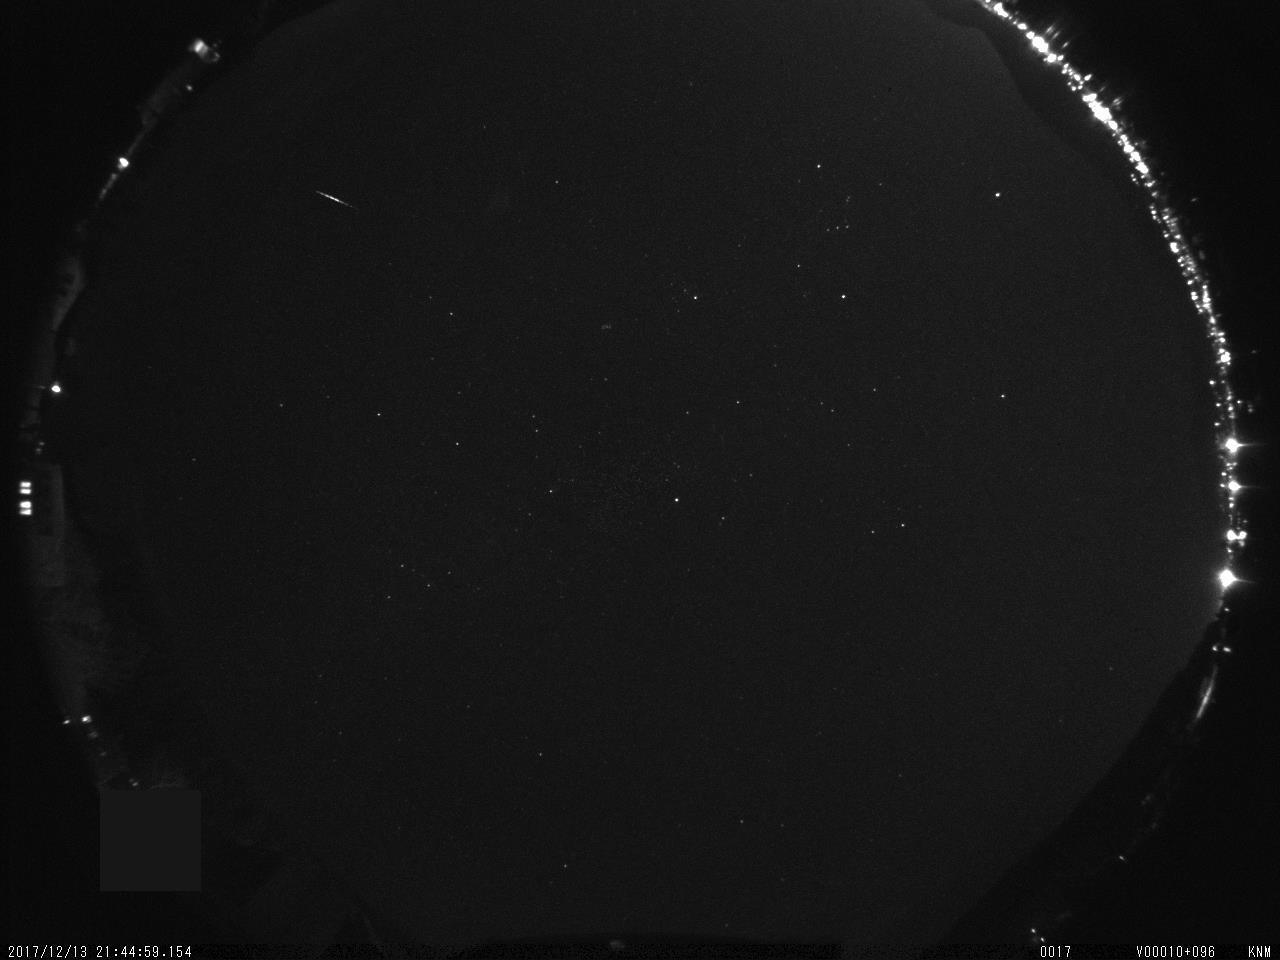meteor: (313, 176, 355, 218)
